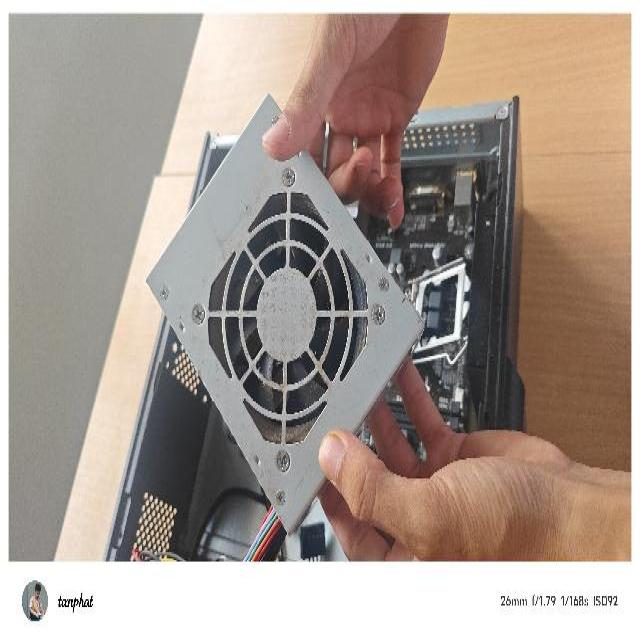PSU: (144, 86, 428, 540)
